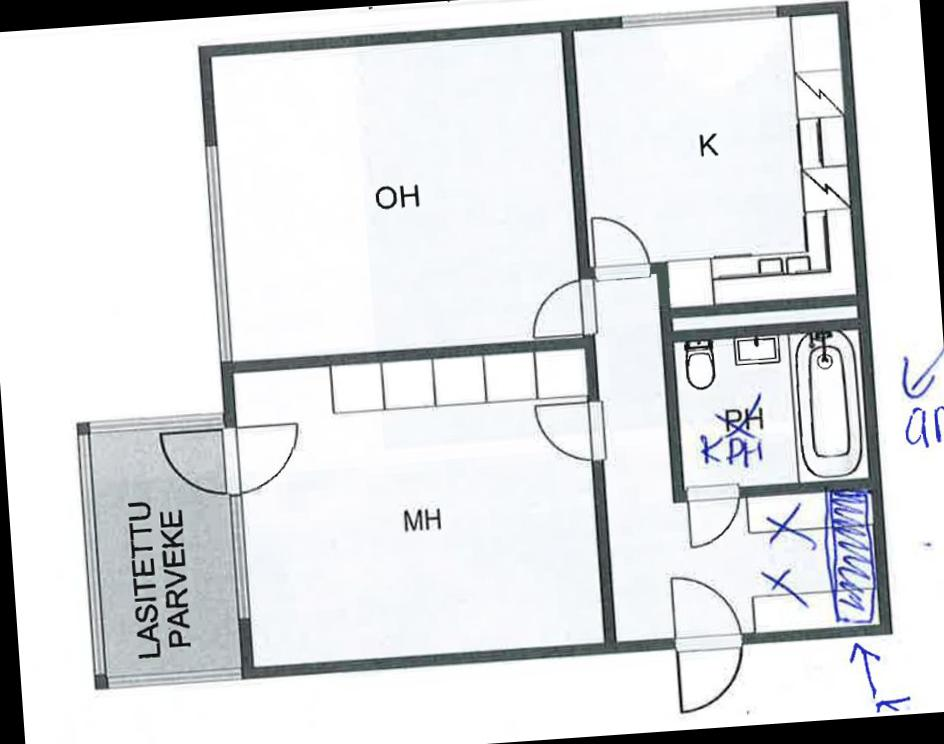door: (666, 630, 752, 718), (664, 568, 748, 654), (222, 418, 310, 498), (155, 422, 244, 501), (530, 396, 612, 470), (522, 274, 602, 346), (586, 209, 658, 284), (678, 479, 747, 554)
window: (198, 134, 240, 370), (77, 418, 107, 688), (613, 0, 789, 34), (82, 407, 233, 438), (224, 489, 256, 631), (94, 664, 253, 692)
